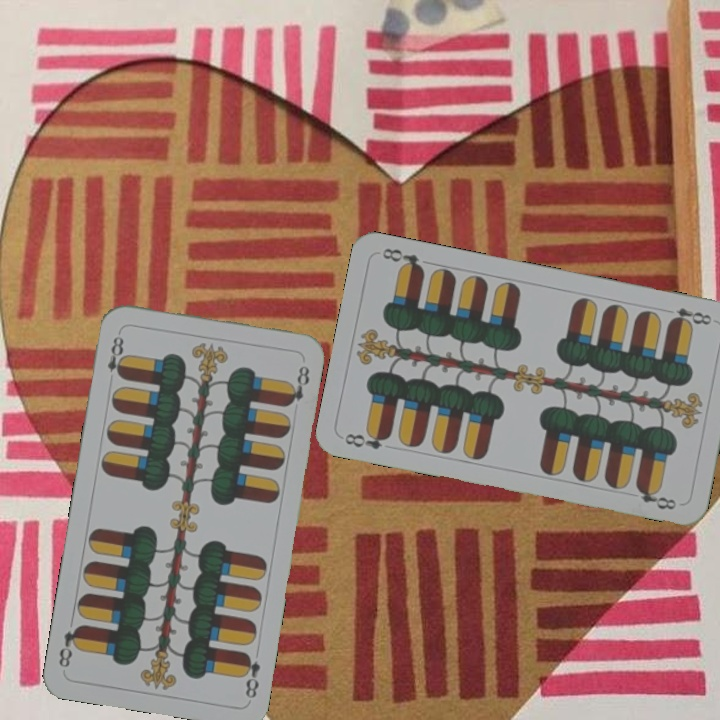E8: (103, 328, 129, 381), (237, 648, 263, 701), (341, 426, 393, 452), (665, 303, 715, 329)
